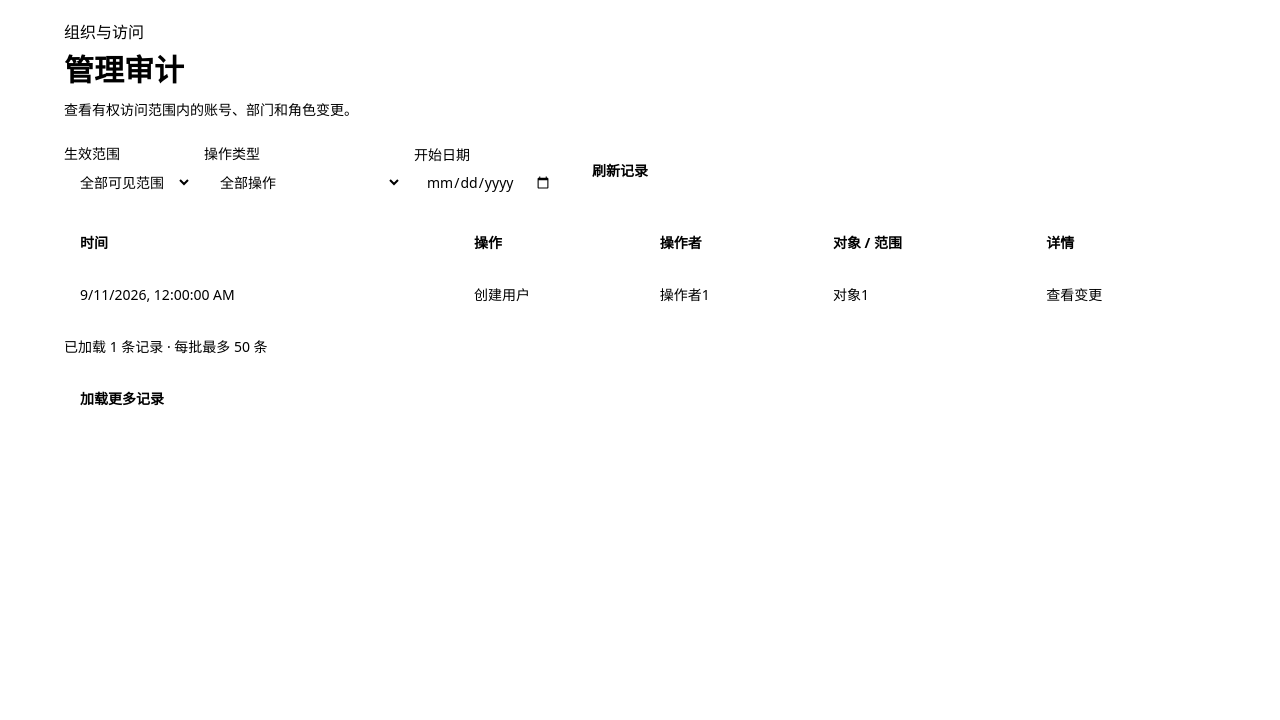
Test case: 审计第三页保留前两页且可查看变更详情
This screenshot has width=1280, height=720.
Expected: the text "操作者1" is shown, [644, 269, 817, 321]
Click the button "加载更多记录" at (122, 399), box [64, 377, 180, 421]
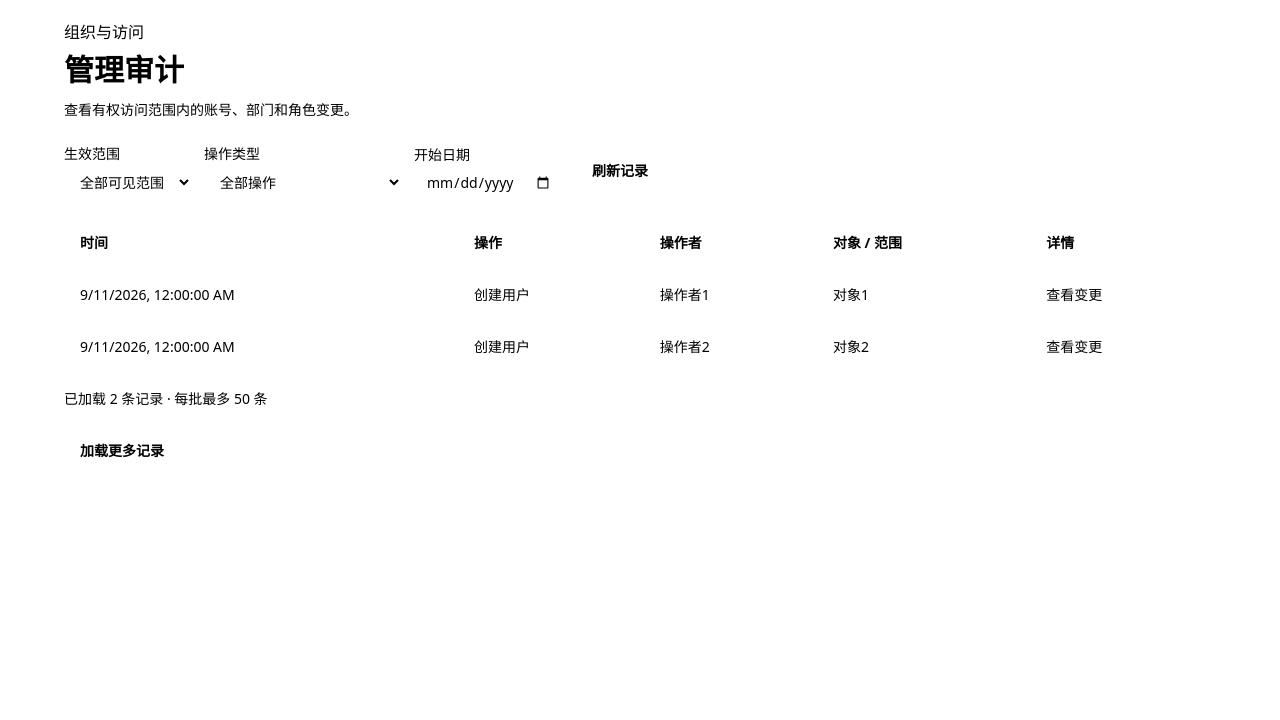
Result: the text "操作者2" is shown at [644, 321, 817, 373]
Click the button "加载更多记录" at (122, 451), box [64, 429, 180, 473]
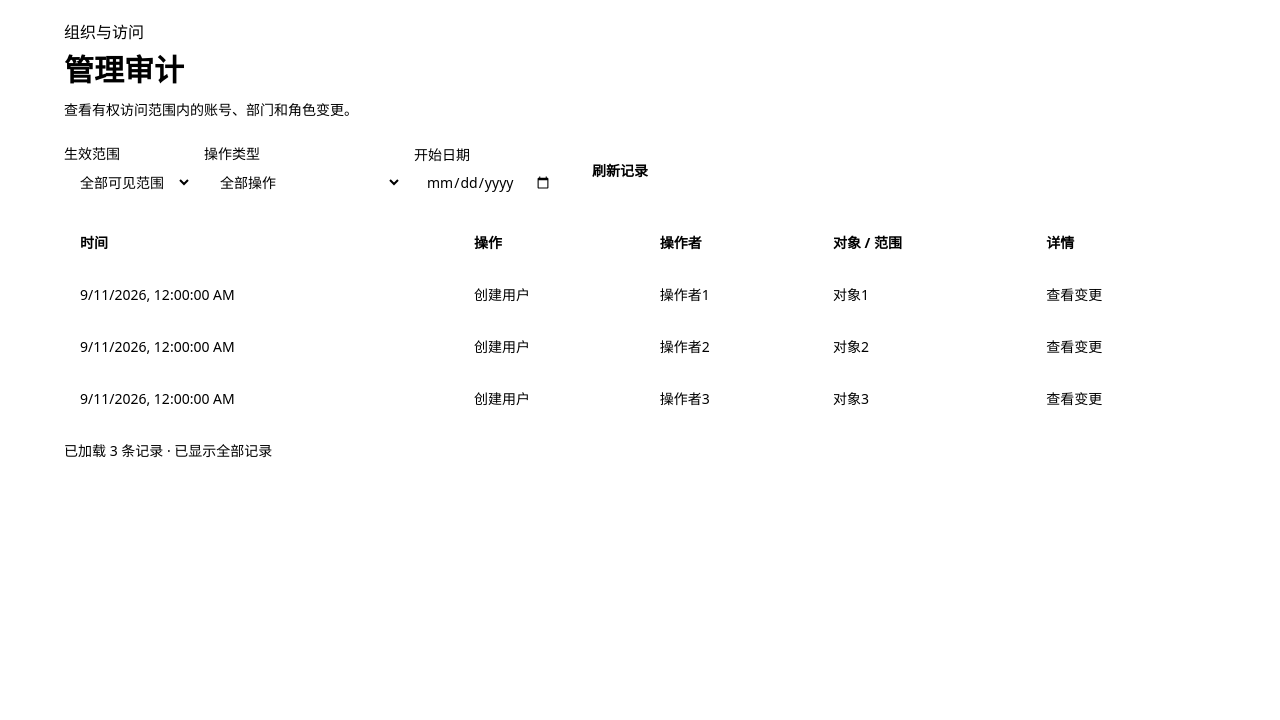
Expected: the text "操作者1" is shown, [644, 269, 817, 321]
Result: the text "操作者2" is shown at [644, 321, 817, 373]
Result: the text "操作者3" is shown at [644, 373, 817, 425]
Click the button "查看变更" in the row of "操作者2" at (1074, 347), box [1046, 337, 1102, 357]
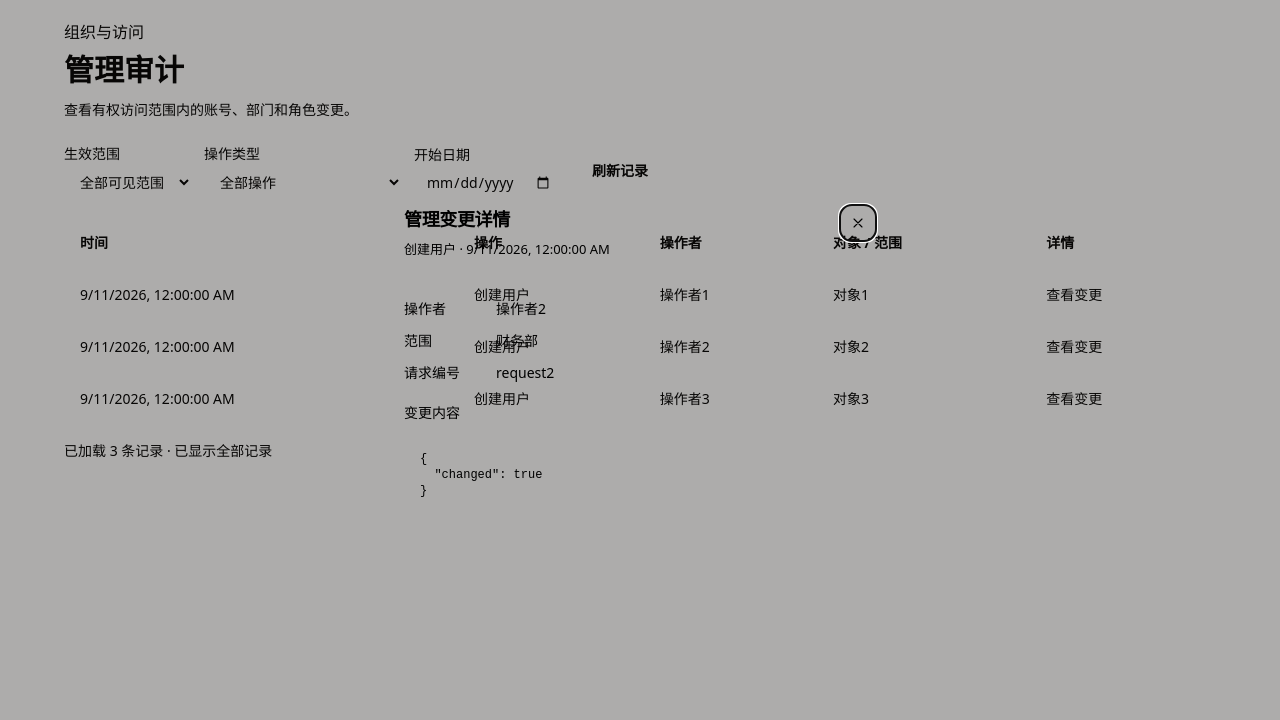
Result: the dialog "管理变更详情" shows "request2" at [496, 363, 554, 382]
